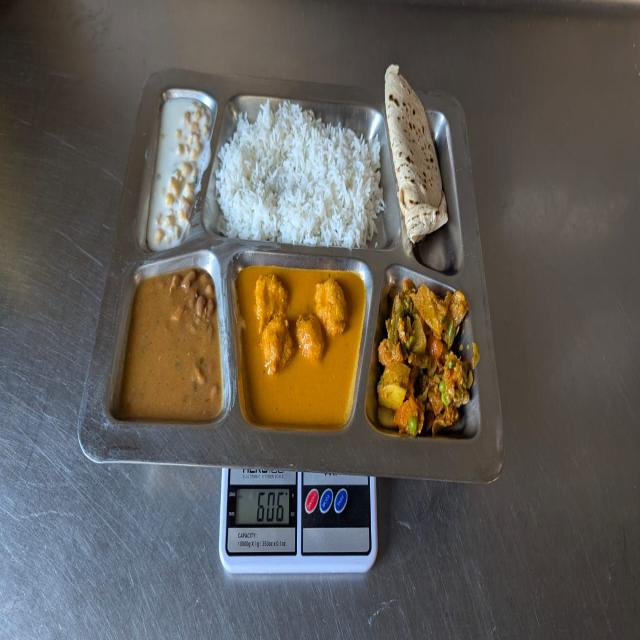Chapati: (384, 65, 450, 246)
Dal: (114, 268, 225, 427)
Kofta: (236, 261, 369, 434)
Mix Veg: (379, 278, 478, 444)
Raita: (141, 88, 213, 251)
White Rice: (215, 99, 388, 249)
